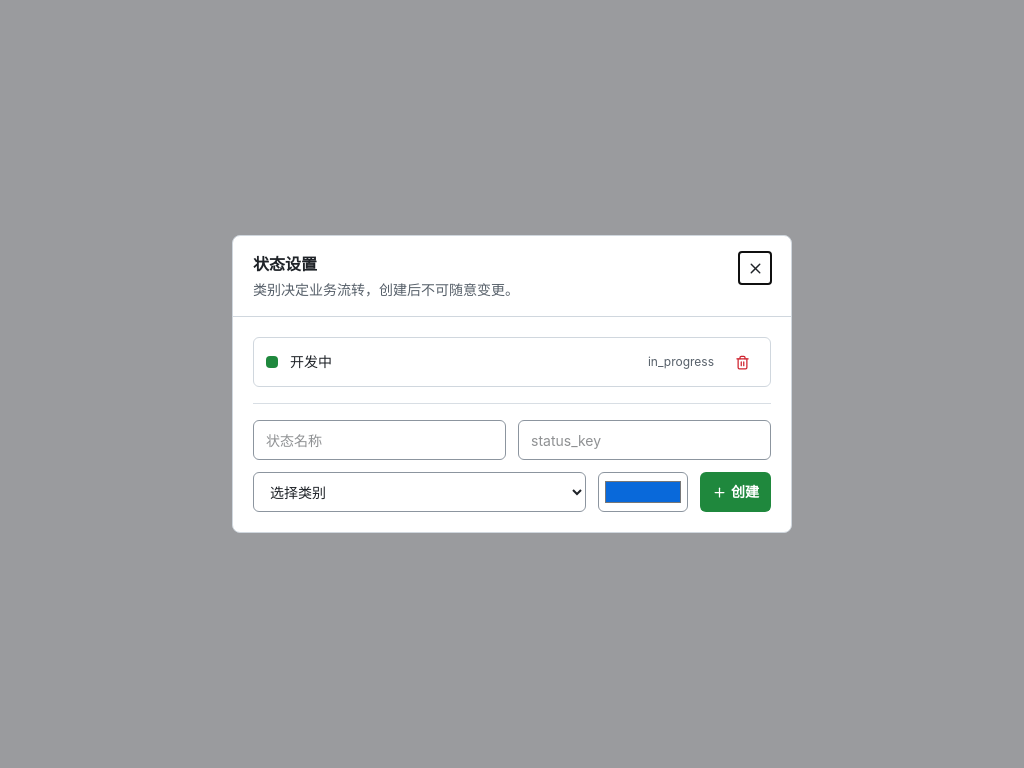
TaskStatusSettingsDialog › shows migration guidance when deleting an in-use definition
The width and height of the screenshot is (1024, 768).
Step 1. Click the button named "删除开发中" → [742, 362], box [726,346,758,378]
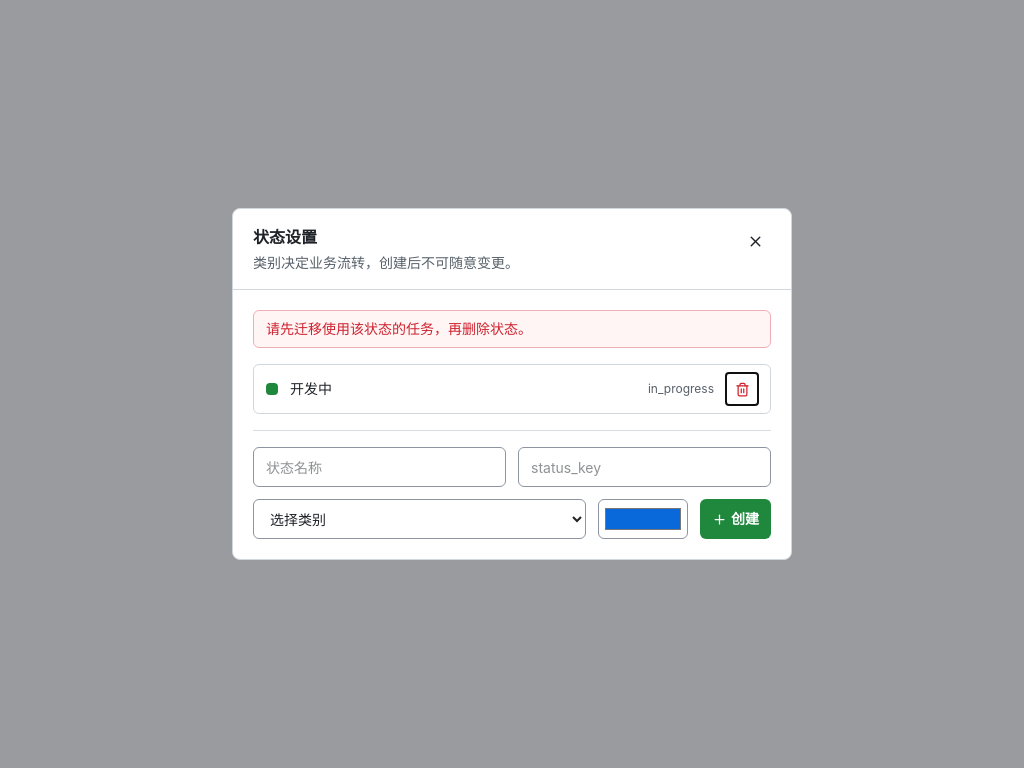
Result: the message shows "请先迁移使用该状态的任务" at [266,320,532,337]
